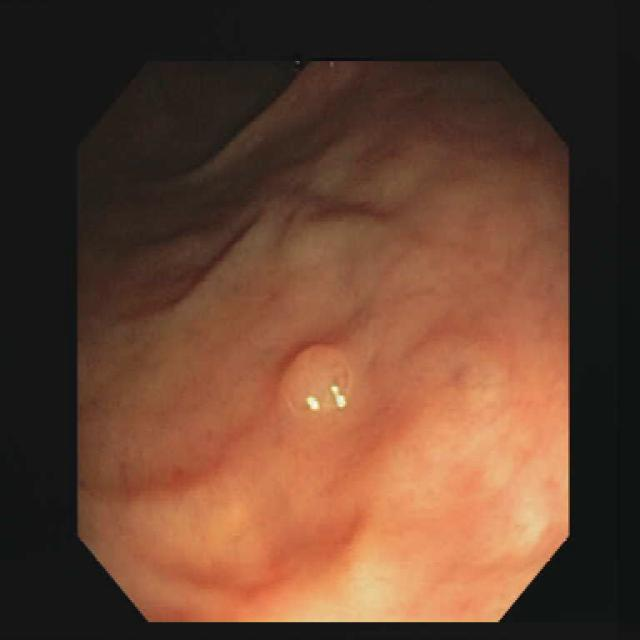tumor: (280, 344, 350, 409)
